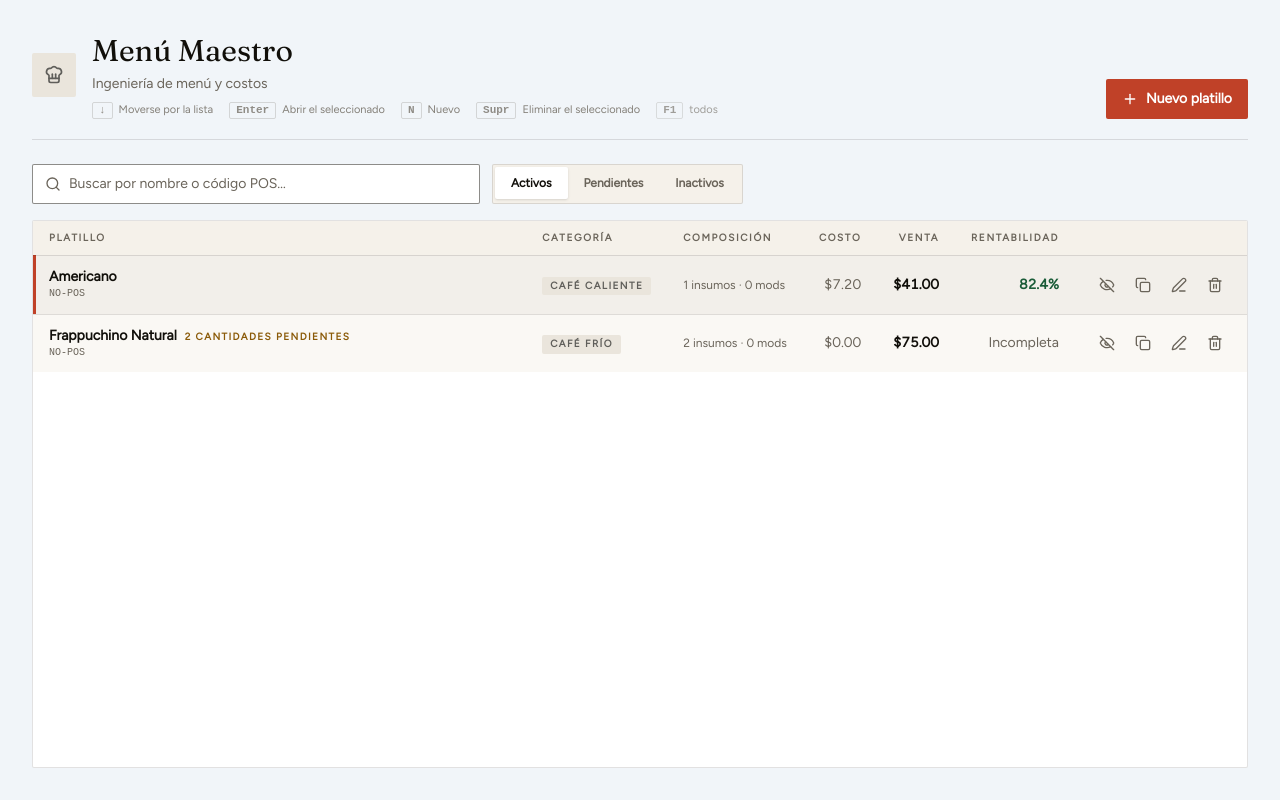
Test: RecetasScreen · recetas plantilla › el filtro Pendientes deja sólo lo que falta por capturar
The width and height of the screenshot is (1280, 800).
Step 1. Click the tab "Pendientes" → (613, 182), box [568,166,659,198]
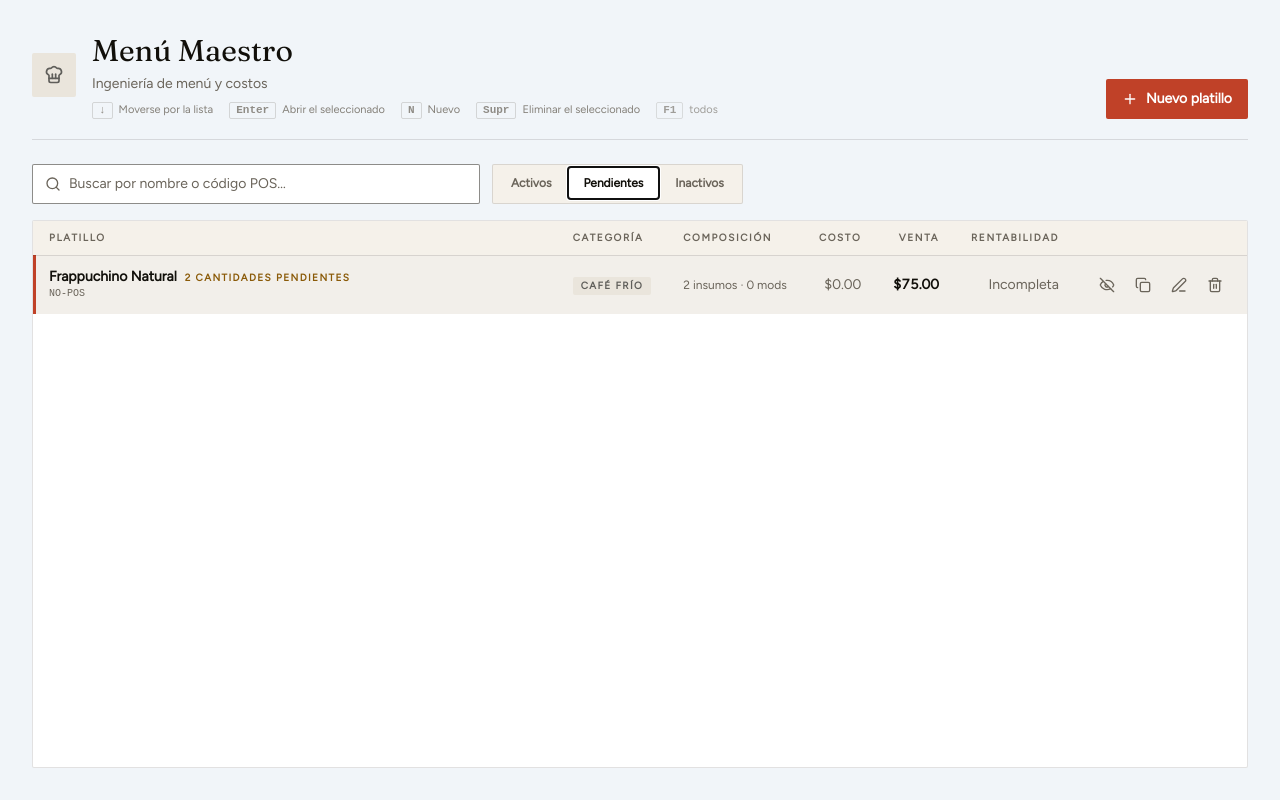
Check: the text "Frappuchino Natural" is shown, box [49,268,177,285]
Check: the text "Americano" is gone
